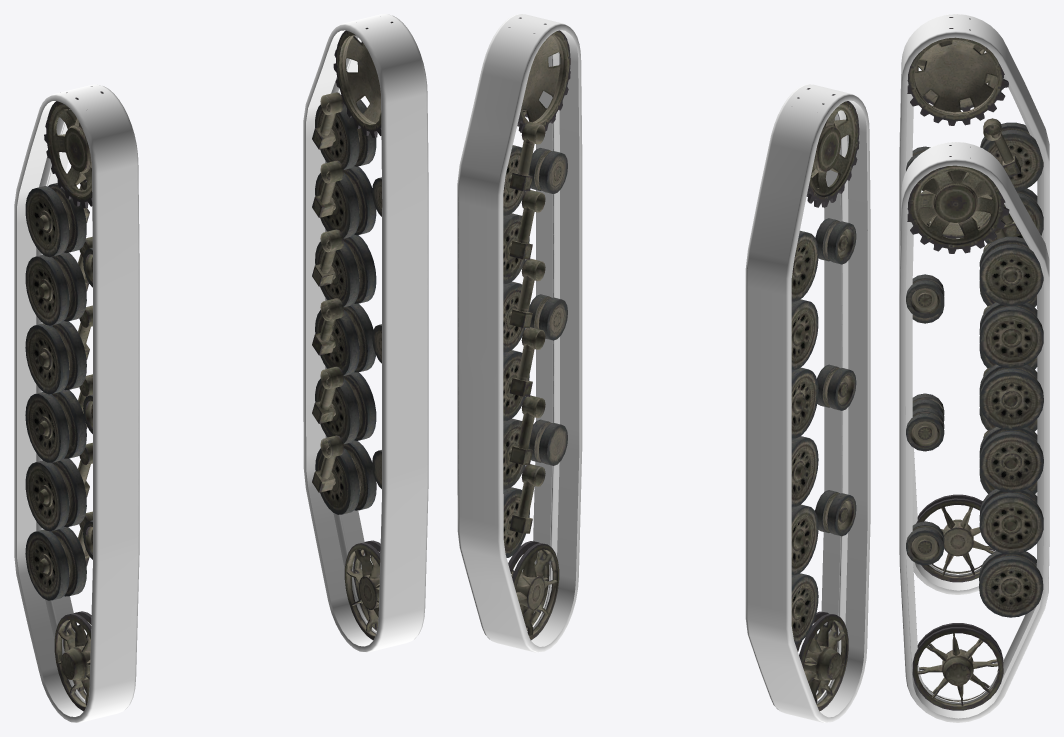
File: Chassis.glb
3 renders of one model, left to right at view 1: azimuth 30°, elevation 25°; view 2: azimuth 150°, elevation 25°; view 3: azimuth 270°, elevation 25°, orthographic. The views are drawn at different scales.
Visible parts, largest first — view 1: set_1_group_0, set_0_group_0, set_2_group_0, set_3_group_0; view 2: set_1_group_0, set_0_group_0, set_3_group_0, set_2_group_0; view 3: set_3_group_0, set_0_group_0, set_2_group_0, set_1_group_0.
Boxes of the visible parts, left/top/right/bottom form: set_1_group_0: left=14, top=84, right=139, bottom=722; set_0_group_0: left=303, top=14, right=428, bottom=652; set_2_group_0: left=25, top=86, right=103, bottom=711; set_3_group_0: left=312, top=21, right=393, bottom=640; set_1_group_0: left=745, top=84, right=870, bottom=722; set_0_group_0: left=457, top=14, right=582, bottom=652; set_3_group_0: left=503, top=17, right=570, bottom=640; set_2_group_0: left=791, top=88, right=859, bottom=711; set_3_group_0: left=906, top=145, right=1043, bottom=710; set_0_group_0: left=899, top=142, right=1049, bottom=722; set_2_group_0: left=906, top=17, right=1043, bottom=582; set_1_group_0: left=899, top=14, right=1049, bottom=594.
Size of the model in its own units: 2.82 by 5.03 by 1.21.
Materials: 4 (2 with a texture image).
